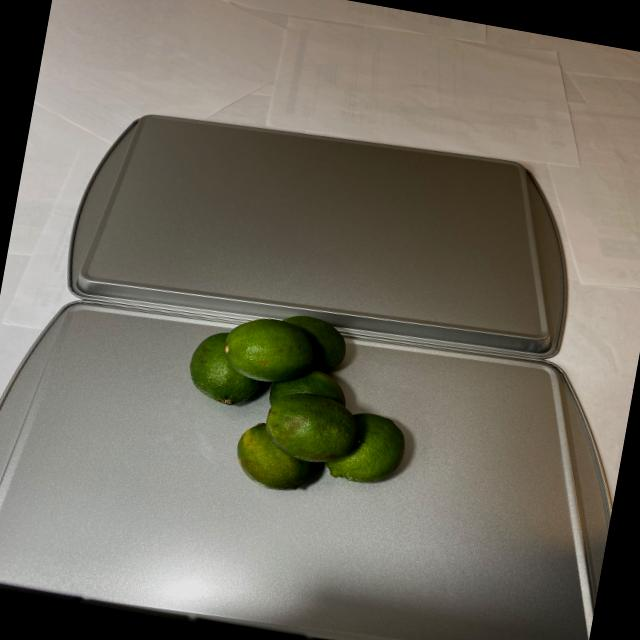lemon: (156, 292, 430, 518)
